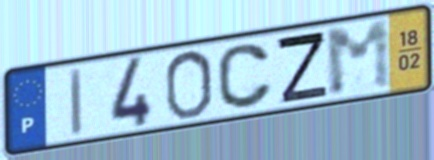4: (108, 54, 155, 132)
C: (214, 42, 276, 112)
I: (68, 64, 85, 139)
M: (321, 16, 396, 100)
O: (162, 47, 215, 122)
Z: (273, 29, 330, 106)
